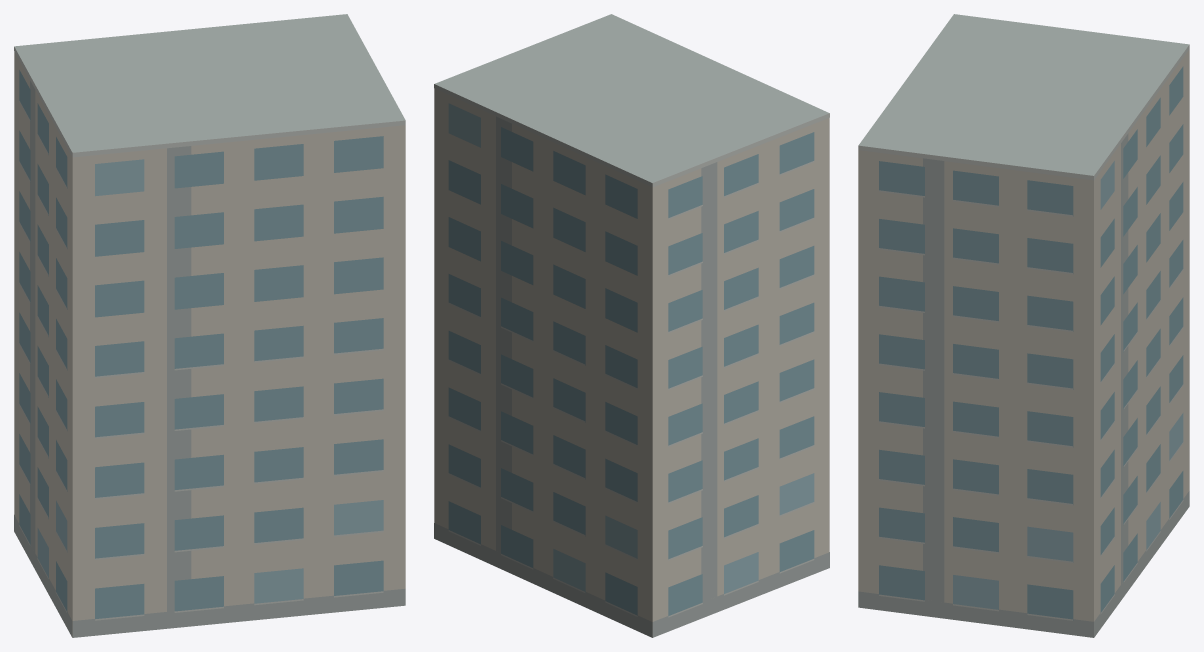
Rendered from survey-upis-32854199.glb.
3 renders of one model, left to right at view 1: azimuth 30°, elevation 25°; view 2: azimuth 150°, elevation 25°; view 3: azimuth 270°, elevation 25°, orthographic. The views are drawn at different scales.
Parts seen in each view (by area): view 1: survey-upis-32854199.tmp; view 2: survey-upis-32854199.tmp; view 3: survey-upis-32854199.tmp.
Boxes of the visible parts, bbox=[...] form: survey-upis-32854199.tmp: bbox=[14, 14, 405, 637]; survey-upis-32854199.tmp: bbox=[434, 14, 829, 637]; survey-upis-32854199.tmp: bbox=[858, 14, 1189, 637].
Size of the model in its own units: 19.18 by 25.5 by 16.58.
